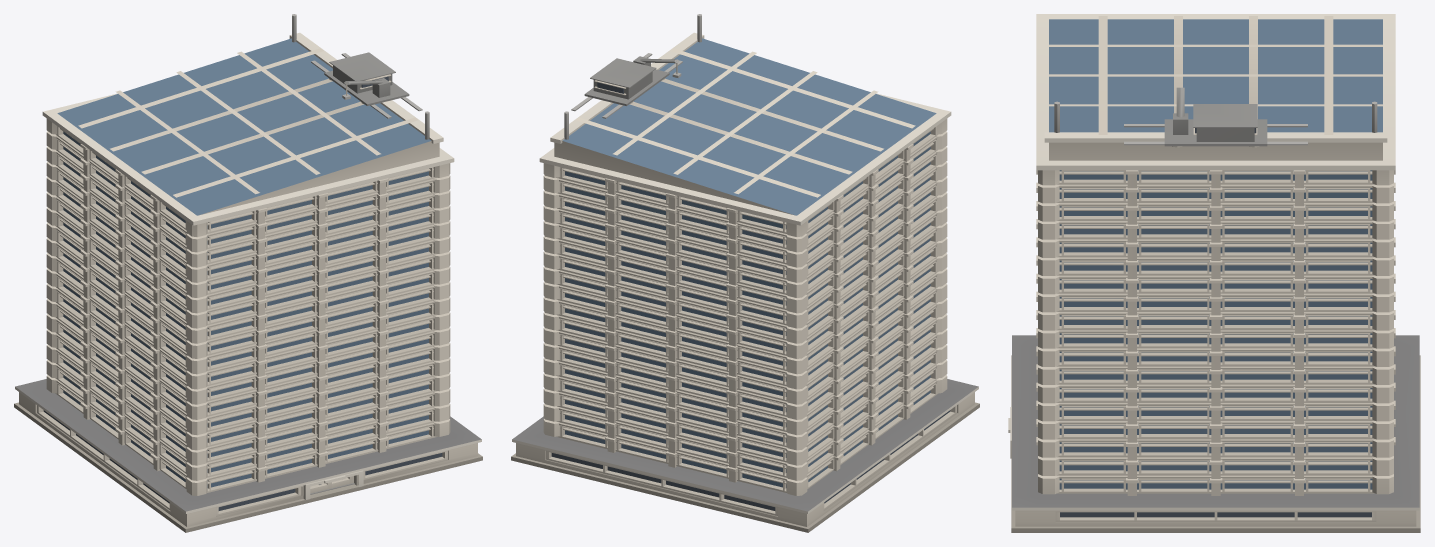
Rendered from building-tower-glass-near.glb.
The picture shows the model from 3 angles, left to right: view 1: azimuth 30°, elevation 25°; view 2: azimuth 150°, elevation 25°; view 3: azimuth 270°, elevation 25°; orthographic projection. The views are drawn at different scales.
Parts seen in each view (by area): view 1: Building; view 2: Building; view 3: Building.
Part boxes in pixels (bbox=[...]): Building: bbox=[14, 14, 482, 532]; Building: bbox=[511, 14, 979, 532]; Building: bbox=[1008, 14, 1420, 532].
Size of the model in its own units: 0.98 by 1.08 by 0.987.
